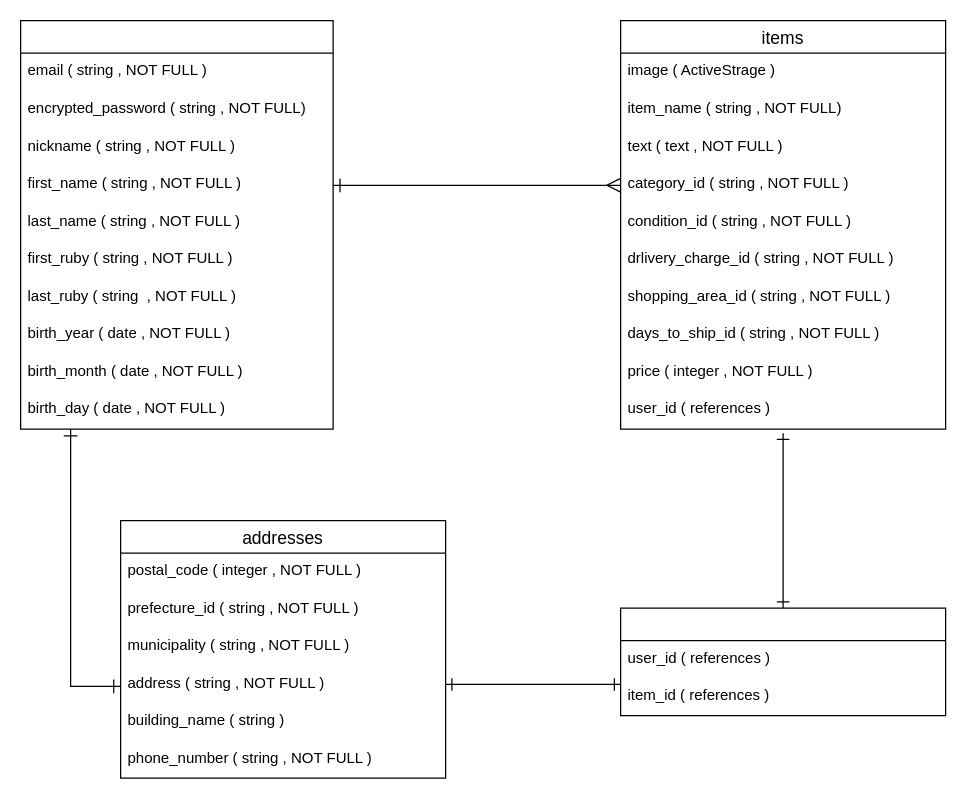
The diagram is 966 pixels wide and 799 high, and some of its shapes have lost their labels. The shapes that lost their labels are listed below. From the top down, each one's box as (x1, y1, x2, y2) in pixels, then its label:
(19, 19, 333, 429): users
(619, 607, 946, 716): shoppings
